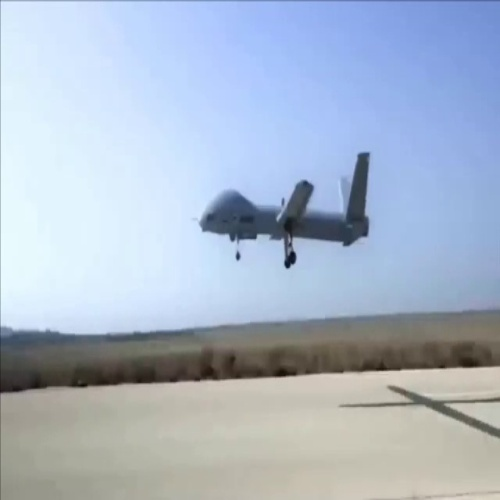uav783: (196, 147, 380, 270)
